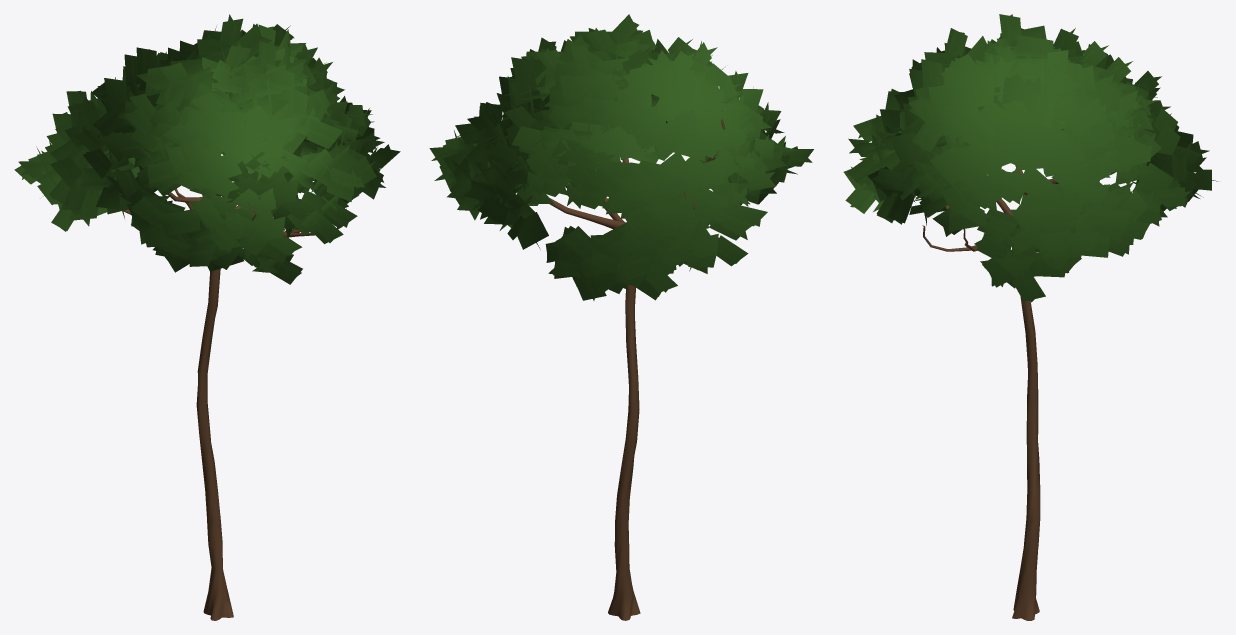
File: SM_tree_jungle_03.fbx
The picture shows the model from 3 angles, left to right: view 1: azimuth 30°, elevation 25°; view 2: azimuth 150°, elevation 25°; view 3: azimuth 270°, elevation 25°; orthographic projection.
Parts seen in each view (by area): view 1: tree003; view 2: tree003; view 3: tree003.
Part boxes in pixels (x1,y1,x2,y2): tree003: [14, 14, 400, 620]; tree003: [429, 14, 813, 620]; tree003: [843, 14, 1217, 620].
Bounding box in the file's own units: 246 × 424 × 251.
